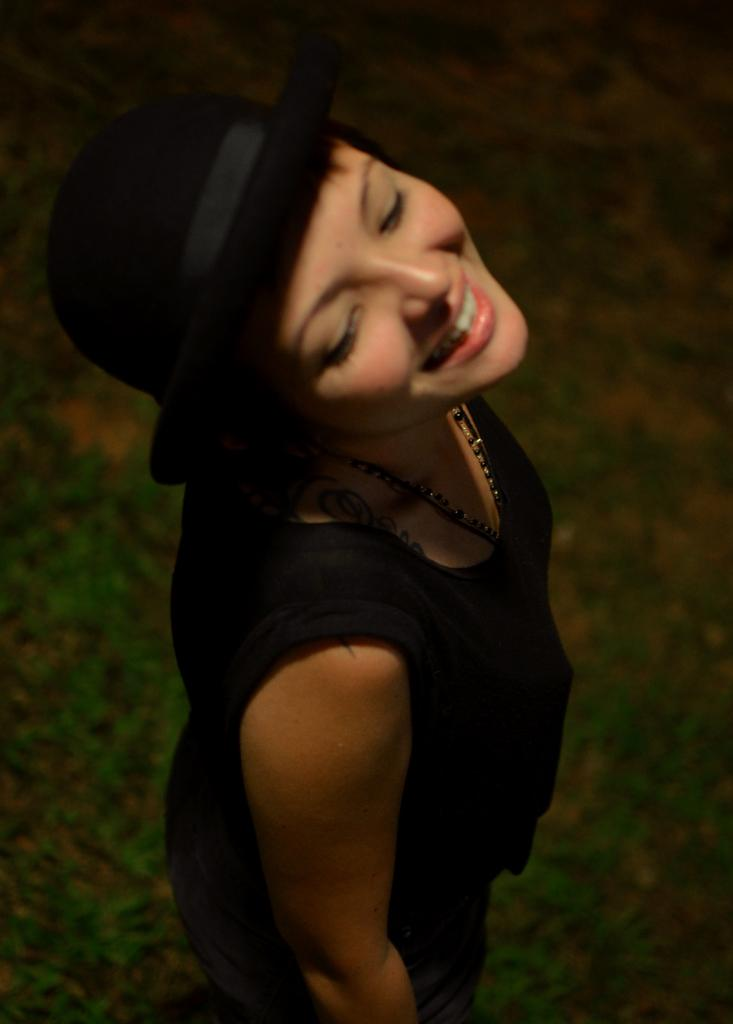Hat: (42, 34, 348, 492)
